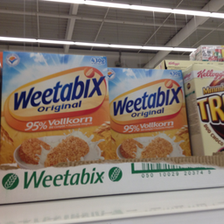cereal: (1, 51, 113, 165), (108, 66, 194, 161)
